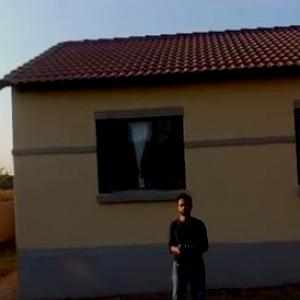follow: (161, 187, 213, 299)
